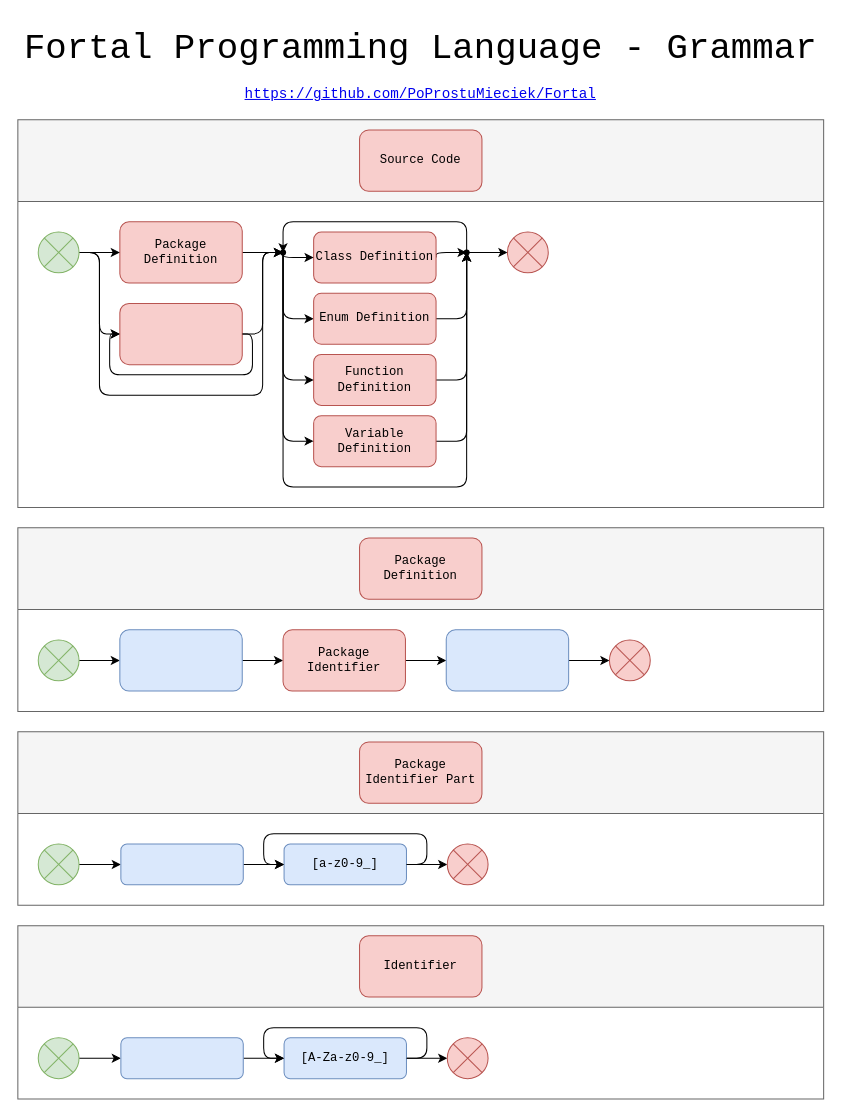
Some shapes in this 842 by 1117 pixel diagram are drawn without their labels. Here are the shapes that lost their labels. From the top down, the centre of each, then its label:
(x=180, y=333): Import Statement
(x=180, y=660): Keyword PACKAGE
(x=507, y=660): Separator SEMICOLON
(x=181, y=864): [a-z_]
(x=181, y=1058): [A-Za-z_]
